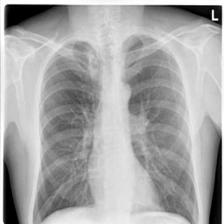tuberculosis: (31, 30, 204, 224)
